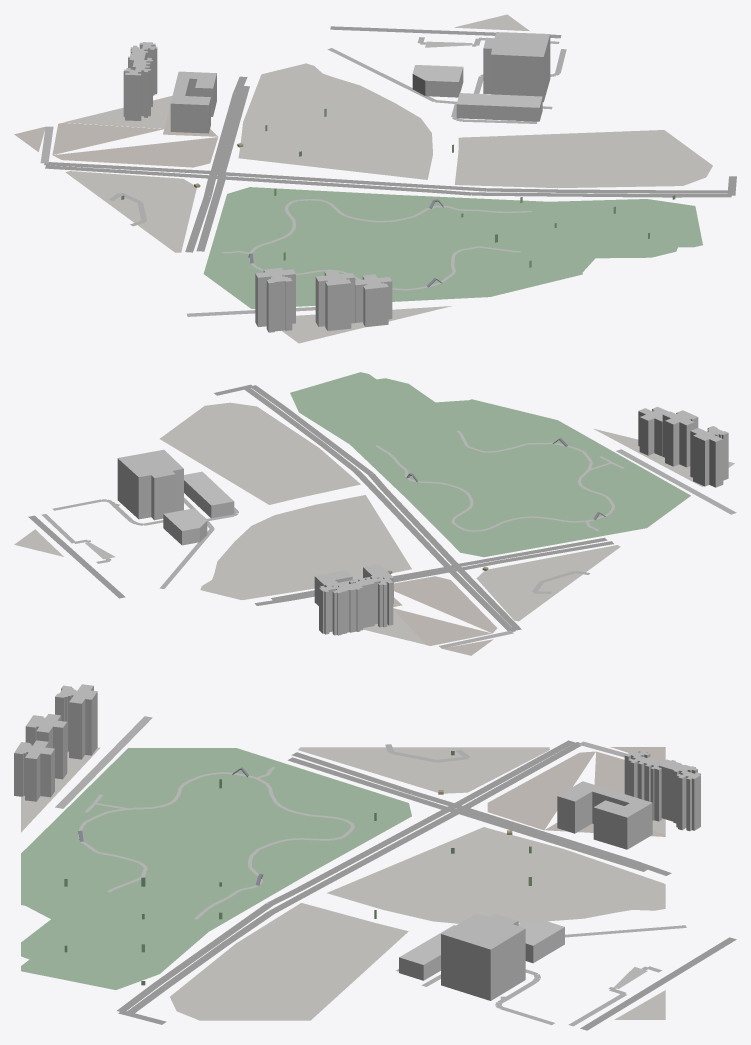
3 views of the same model, one above another, from view 1: azimuth 30°, elevation 25°; view 2: azimuth 150°, elevation 25°; view 3: azimuth 270°, elevation 25° (orthographic). The views are drawn at different scales.
Bounding box in the file's own units: 577 × 48.78 × 561.
